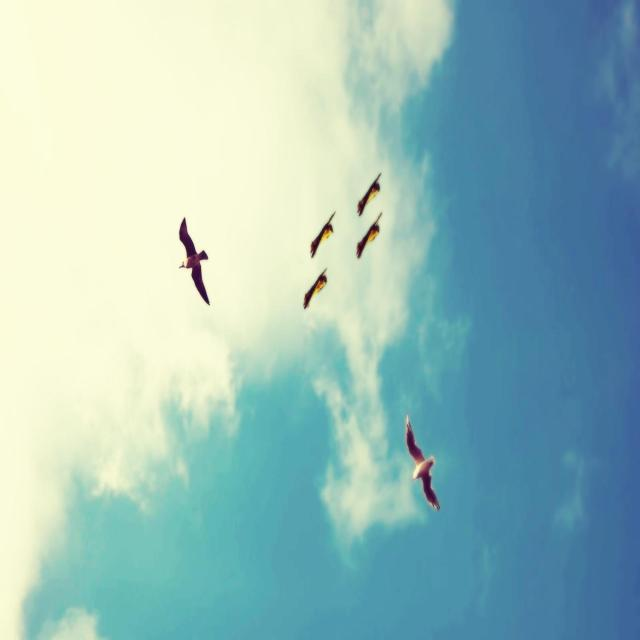airplane: (310, 210, 336, 258), (356, 211, 382, 259), (357, 172, 381, 216), (303, 268, 327, 310)
